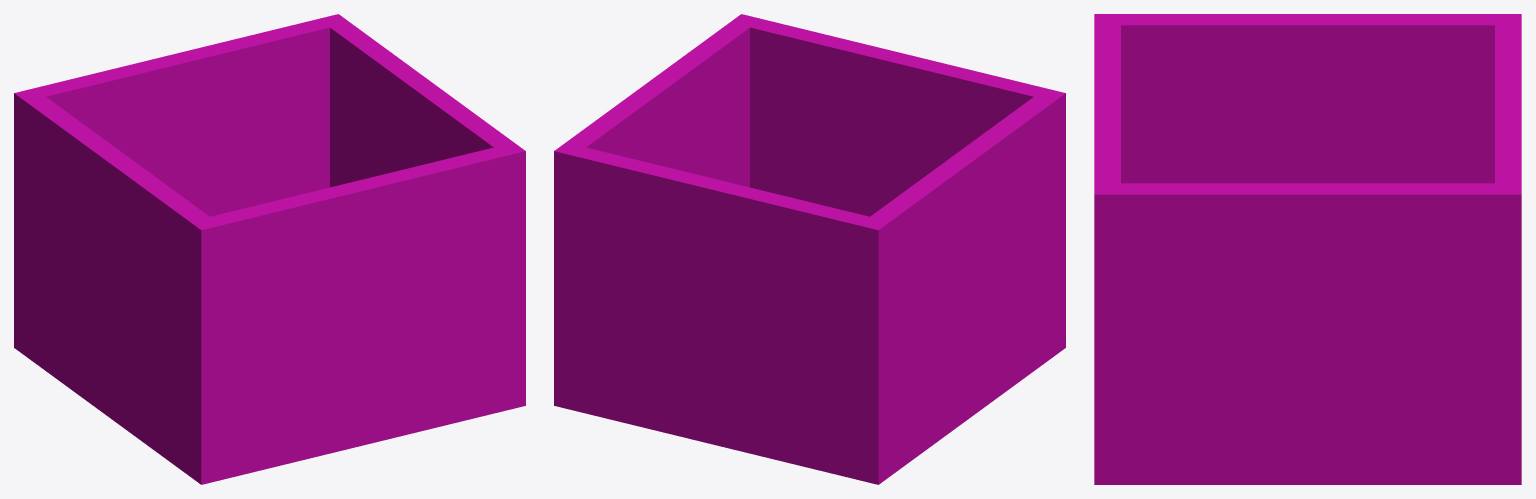
File: fangkong.dae
The picture shows the model from 3 angles, left to right: view 1: azimuth 30°, elevation 25°; view 2: azimuth 150°, elevation 25°; view 3: azimuth 270°, elevation 25°; orthographic projection. The views are drawn at different scales.
Visible parts, largest first — view 1: Fangkong; view 2: Fangkong; view 3: Fangkong.
Boxes of the visible parts, x1,y1,x2,y2 form: Fangkong: (14, 14, 525, 484); Fangkong: (554, 14, 1065, 484); Fangkong: (1094, 14, 1521, 484).
Size of the model in its own units: 0.08 by 0.08 by 0.06.
